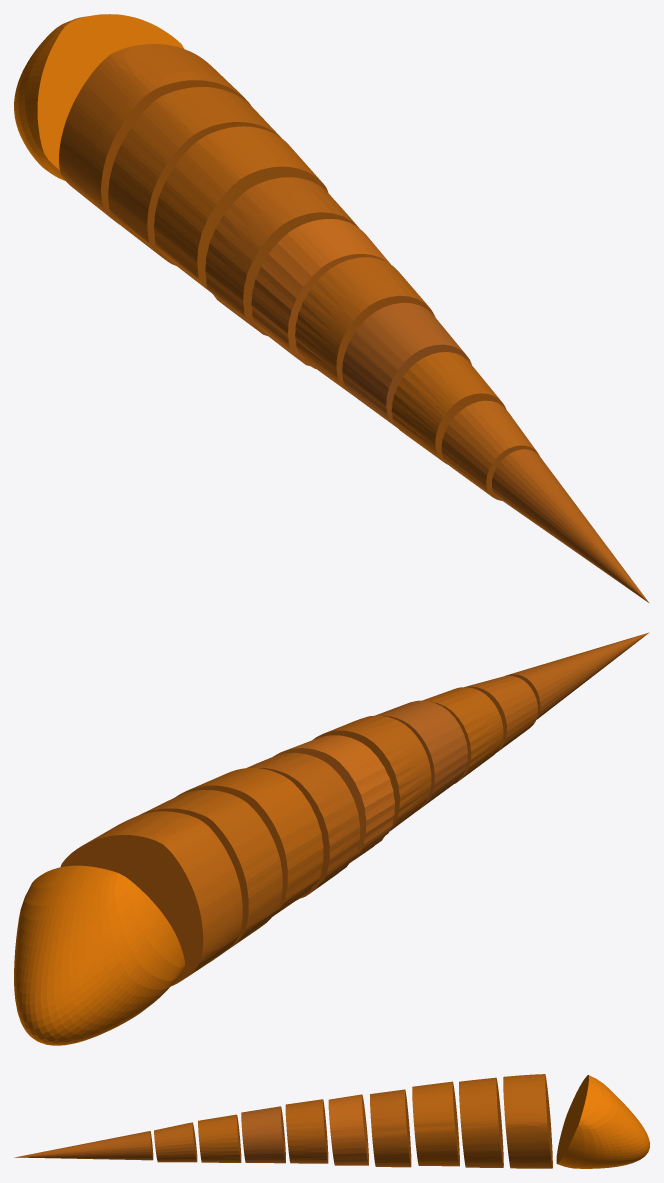
Rendered from carrot_sliced.fbx.
3 views of the same model, one above another, from view 1: azimuth 30°, elevation 25°; view 2: azimuth 150°, elevation 25°; view 3: azimuth 270°, elevation 25° (orthographic). The views are drawn at different scales.
Visible parts, largest first — view 1: Cone.010, Cone.008, Cone.009, Cone.011, Cone.007, Cone.005, Cone.006, Cone.004, Cone.001, Cone.003, Cone.002; view 2: Cone.011, Cone.010, Cone.009, Cone.008, Cone.007, Cone.006, Cone.005, Cone.004, Cone.001, Cone.003, Cone.002; view 3: Cone.011, Cone.010, Cone.008, Cone.009, Cone.007, Cone.006, Cone.005, Cone.004, Cone.001, Cone.003, Cone.002.
Boxes of the visible parts, <box> form: Cone.010: <box>59,44,250,224</box>; Cone.008: <box>154,126,328,290</box>; Cone.009: <box>108,87,281,265</box>; Cone.011: <box>14,14,184,180</box>; Cone.007: <box>205,177,358,335</box>; Cone.005: <box>295,257,435,393</box>; Cone.006: <box>251,219,390,368</box>; Cone.004: <box>342,302,471,428</box>; Cone.001: <box>492,449,648,602</box>; Cone.003: <box>391,352,505,464</box>; Cone.002: <box>441,400,539,500</box>; Cone.011: <box>14,865,185,1045</box>; Cone.010: <box>60,811,242,986</box>; Cone.009: <box>139,790,282,950</box>; Cone.008: <box>176,768,323,916</box>; Cone.007: <box>247,752,360,899</box>; Cone.006: <box>273,735,394,862</box>; Cone.005: <box>313,715,431,830</box>; Cone.004: <box>375,700,467,809</box>; Cone.001: <box>505,632,649,719</box>; Cone.003: <box>422,687,503,783</box>; Cone.002: <box>465,675,537,752</box>; Cone.011: <box>556,1075,649,1168</box>; Cone.010: <box>503,1074,552,1168</box>; Cone.008: <box>412,1081,459,1166</box>; Cone.009: <box>459,1077,503,1167</box>; Cone.007: <box>370,1089,411,1167</box>; Cone.006: <box>328,1094,368,1165</box>; Cone.005: <box>285,1099,328,1163</box>; Cone.004: <box>241,1106,285,1163</box>; Cone.001: <box>14,1131,153,1160</box>; Cone.003: <box>198,1114,241,1162</box>; Cone.002: <box>154,1122,197,1162</box>.
Size of the model in its own units: 52.96 by 54.61 by 371.
